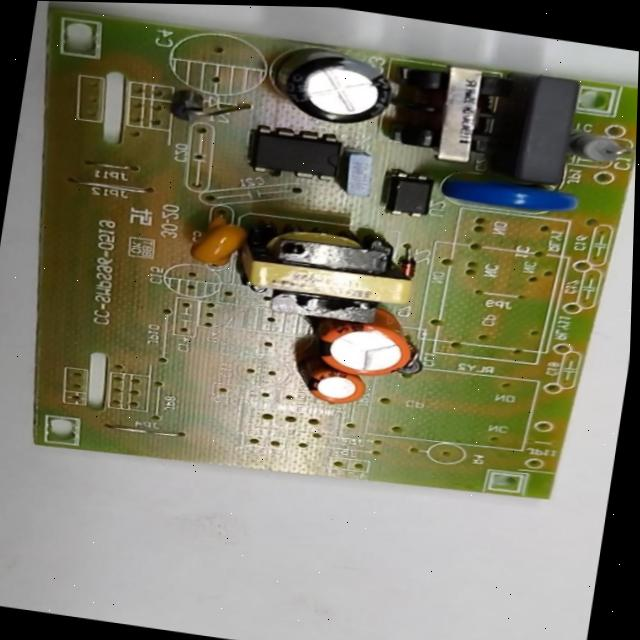Cap1: (313, 319, 413, 382)
Cap2: (304, 370, 367, 407)
Cap3: (281, 49, 395, 130)
MOSFET: (244, 123, 344, 185)
Mov: (440, 174, 579, 218)
Resistor: (570, 133, 630, 166)
Transformer: (245, 215, 418, 324), (385, 59, 507, 164)
